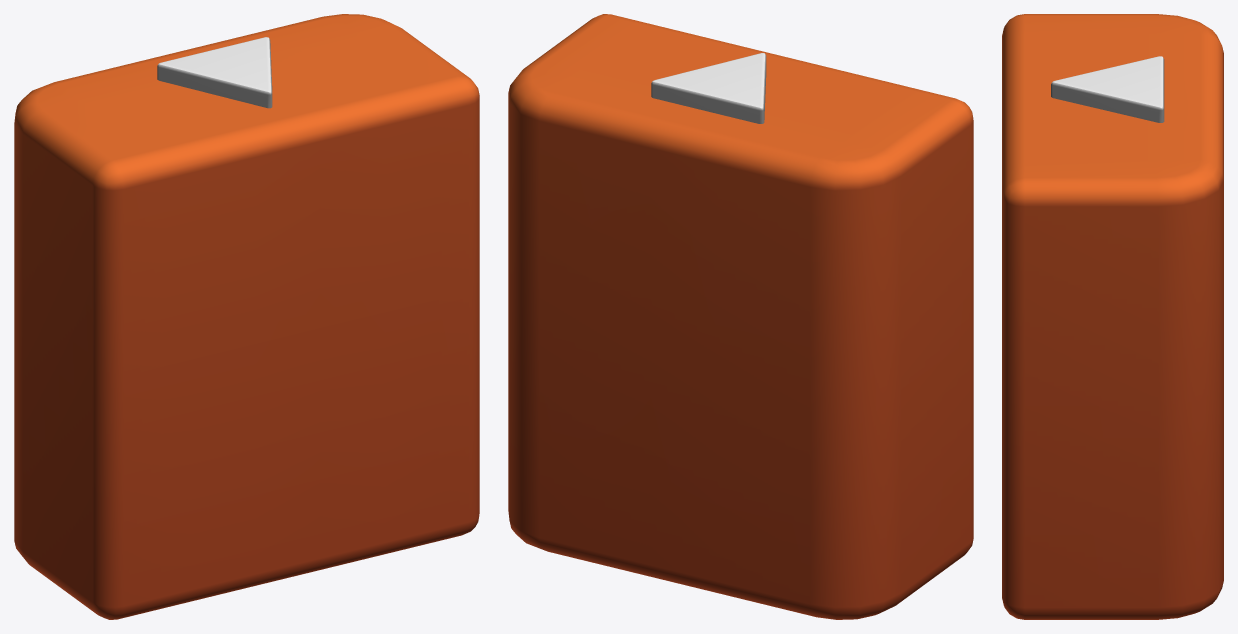
The model's file is Blast_Orange.fbx.
3 renders of one model, left to right at view 1: azimuth 30°, elevation 25°; view 2: azimuth 150°, elevation 25°; view 3: azimuth 270°, elevation 25°, orthographic. The views are drawn at different scales.
Parts seen in each view (by area): view 1: Blast_Orange; view 2: Blast_Orange; view 3: Blast_Orange.
Part boxes in pixels (bbox=[...]): Blast_Orange: bbox=[14, 14, 479, 619]; Blast_Orange: bbox=[508, 14, 973, 619]; Blast_Orange: bbox=[1002, 14, 1223, 619].
Size of the model in its own units: 1.01 by 1.19 by 0.525.
Materials: 1 (1 with a texture image).
